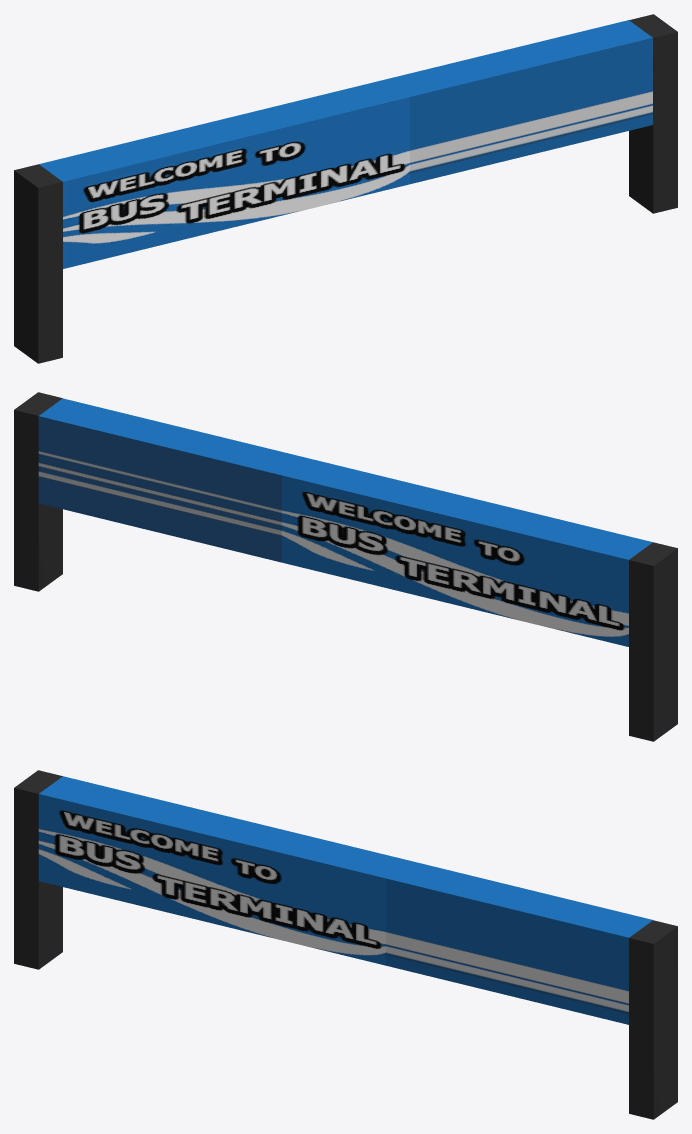
The model's file is board.fbx.
3 renders of one model, top to bottom at view 1: azimuth 30°, elevation 25°; view 2: azimuth 150°, elevation 25°; view 3: azimuth 330°, elevation 25°, orthographic.
Visible parts, largest first — view 1: bus_terminal_005__1_.001; view 2: bus_terminal_005__1_.001; view 3: bus_terminal_005__1_.001.
Part boxes in pixels (box(x1,y1,x2,y2)): bus_terminal_005__1_.001: box(14, 14, 677, 363); bus_terminal_005__1_.001: box(14, 392, 677, 741); bus_terminal_005__1_.001: box(14, 770, 677, 1119).
Bounding box in the file's own units: 1672 × 439 × 111.
